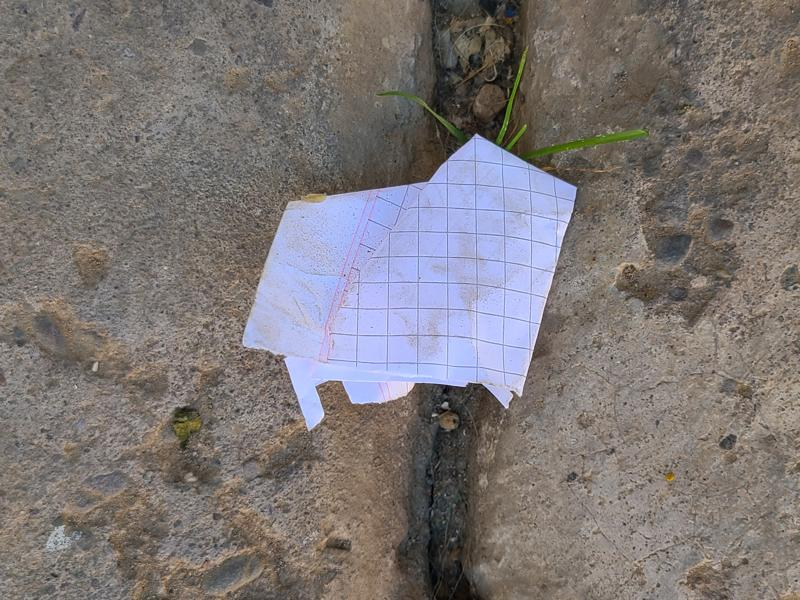papel: (241, 136, 577, 429)
